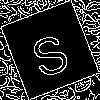S: (25, 24, 73, 79)
